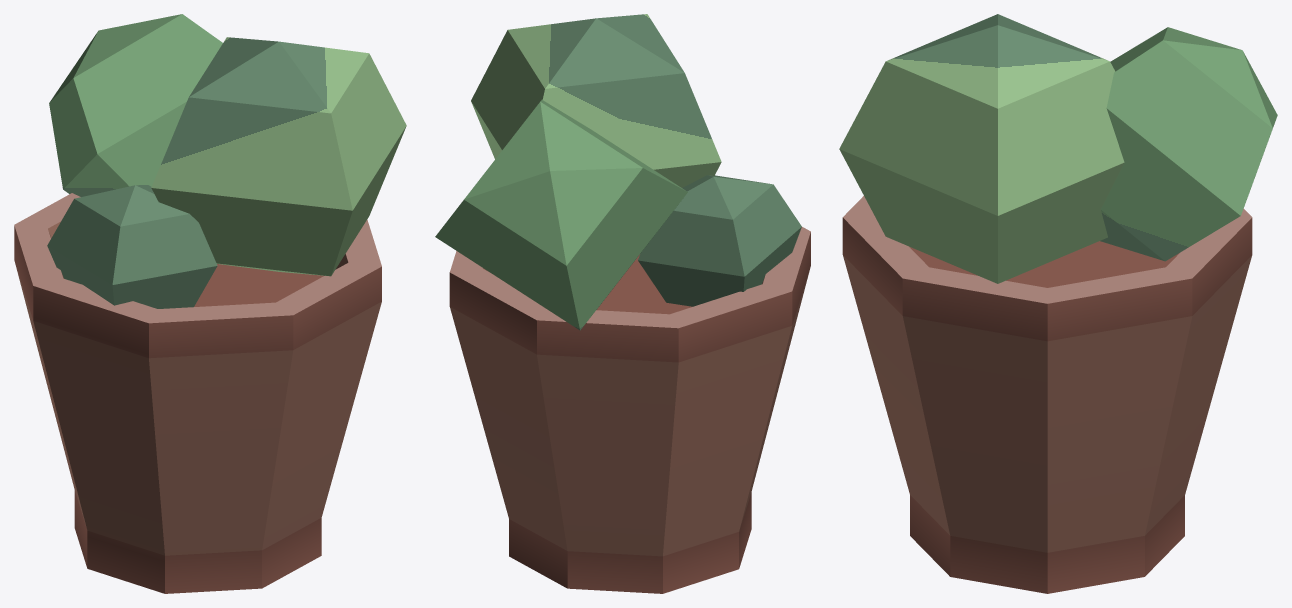
The model's file is plant_ball.fbx.
The picture shows the model from 3 angles, left to right: view 1: azimuth 30°, elevation 25°; view 2: azimuth 150°, elevation 25°; view 3: azimuth 270°, elevation 25°; orthographic projection. The views are drawn at different scales.
Visible parts, largest first — view 1: plant2; view 2: plant2; view 3: plant2.
Boxes of the visible parts, left/top/right/bottom form: plant2: left=14, top=14, right=406, bottom=593; plant2: left=435, top=14, right=810, bottom=593; plant2: left=839, top=14, right=1277, bottom=593.
Size of the model in its own units: 0.8794 by 1.21 by 0.8861.
1 material, 1 textured.
